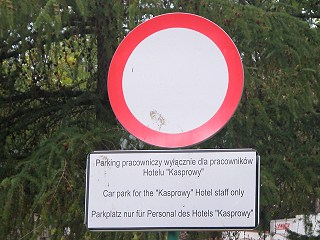no_entry_sign: (109, 12, 245, 148)
